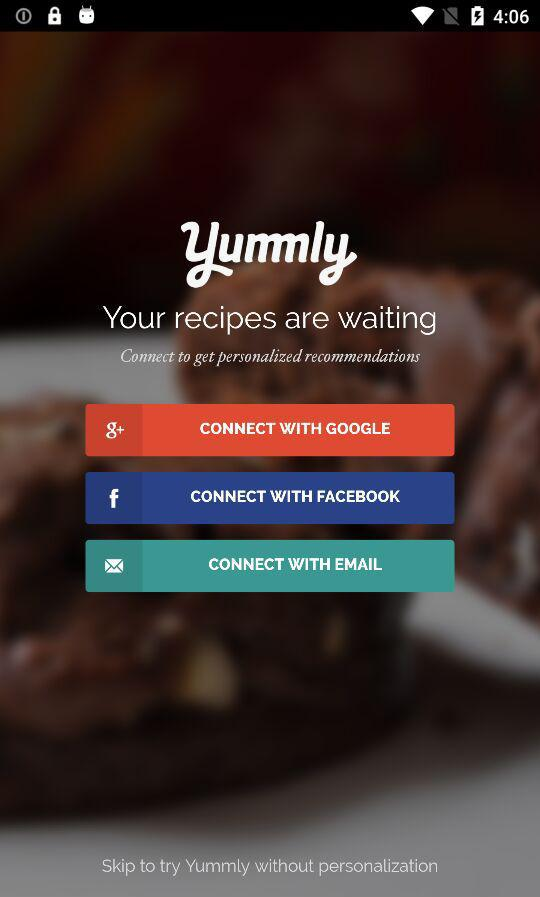BackgroundImage: (1, 33, 540, 897)
Image: (181, 221, 358, 289)
Text: (103, 305, 436, 337), (102, 857, 438, 878), (121, 348, 421, 368)
TextButton: (85, 404, 455, 457), (86, 540, 455, 593), (86, 472, 455, 525)
UpperTaskBar: (1, 1, 540, 33)
